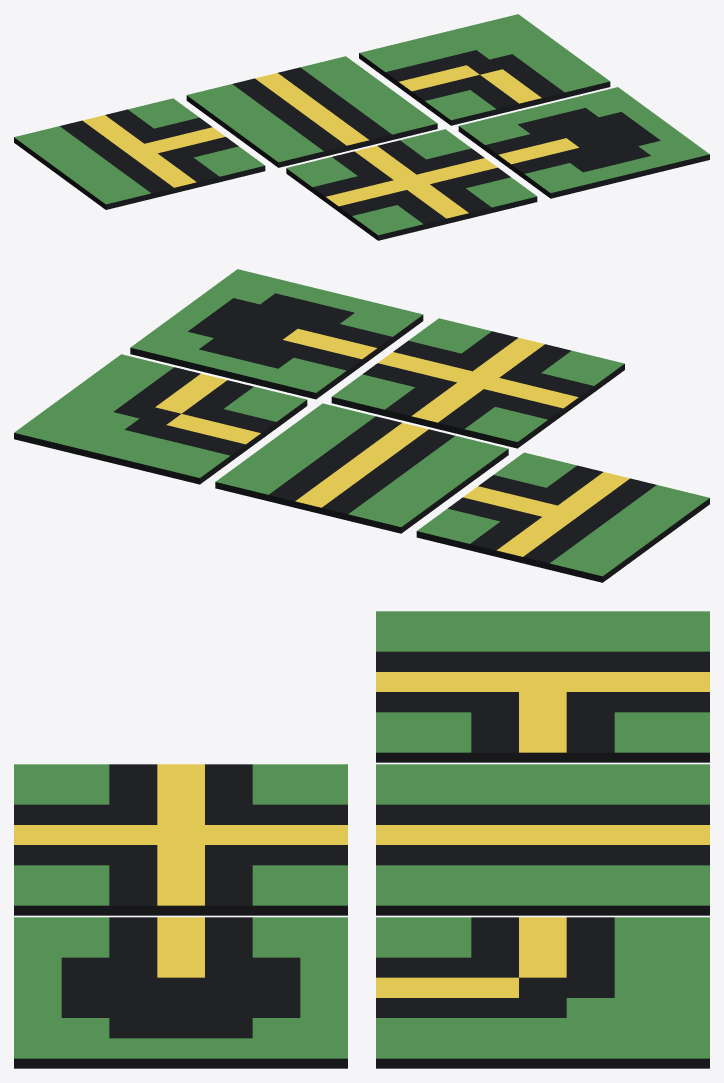
The model's file is Roads.fbx.
3 renders of one model, top to bottom at view 1: azimuth 30°, elevation 25°; view 2: azimuth 150°, elevation 25°; view 3: azimuth 270°, elevation 25°, orthographic. The views are drawn at different scales.
Visible parts, largest first — view 1: Tile_1, Tile_5, Tile_2, Tile_3, Tile_4; view 2: Tile_3, Tile_4, Tile_2, Tile_5, Tile_1; view 3: Tile_1, Tile_2, Tile_3, Tile_4, Tile_5.
Part boxes in pixels (bbox=[...]): Tile_1: bbox=[286, 129, 537, 240]; Tile_5: bbox=[186, 56, 437, 167]; Tile_2: bbox=[458, 87, 709, 198]; Tile_3: bbox=[359, 14, 610, 125]; Tile_4: bbox=[14, 98, 265, 209]; Tile_3: bbox=[14, 354, 307, 484]; Tile_4: bbox=[416, 452, 709, 582]; Tile_2: bbox=[130, 269, 423, 399]; Tile_5: bbox=[215, 403, 508, 533]; Tile_1: bbox=[331, 318, 624, 448]; Tile_1: bbox=[14, 764, 347, 915]; Tile_2: bbox=[14, 917, 347, 1068]; Tile_3: bbox=[376, 917, 709, 1068]; Tile_4: bbox=[376, 611, 709, 762]; Tile_5: bbox=[376, 764, 709, 915].
Bounding box in the file's own units: 3800 × 40 × 2500.
